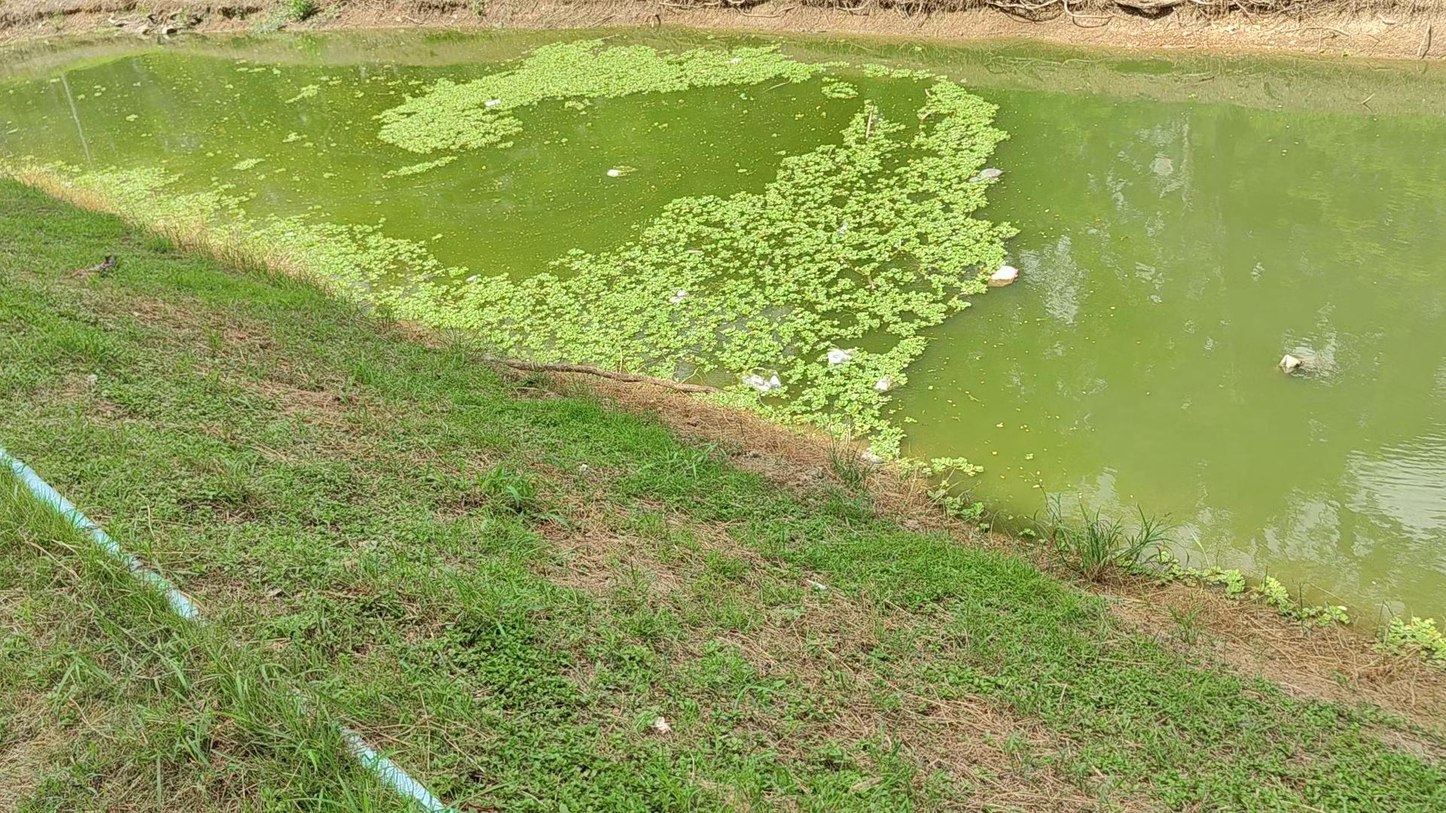trash: (743, 372, 781, 392), (988, 265, 1018, 286), (970, 168, 1002, 182), (1279, 354, 1303, 371), (828, 349, 851, 364), (874, 376, 893, 391), (608, 166, 635, 176), (669, 289, 687, 303), (486, 99, 500, 106), (731, 57, 740, 62)
